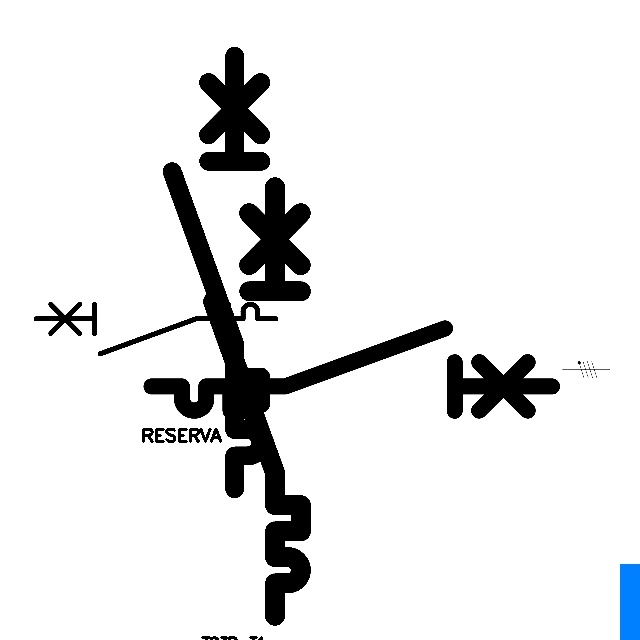interruptor_termomagnetico: (161, 45, 272, 500), (202, 176, 312, 627), (141, 318, 562, 421), (30, 298, 282, 359)
